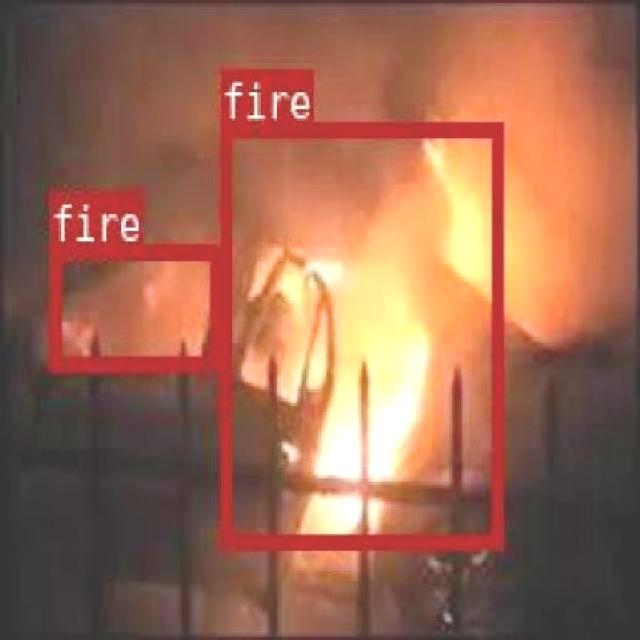fire: (219, 120, 501, 546), (46, 244, 220, 368)
